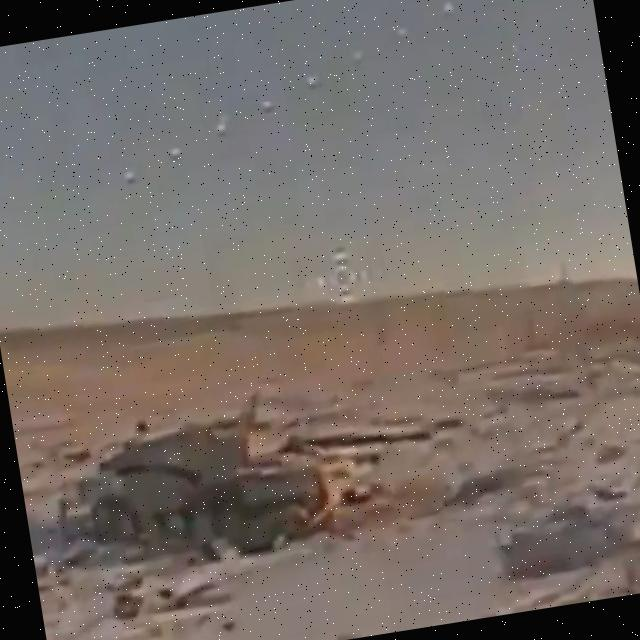MBT: (69, 369, 445, 571)
